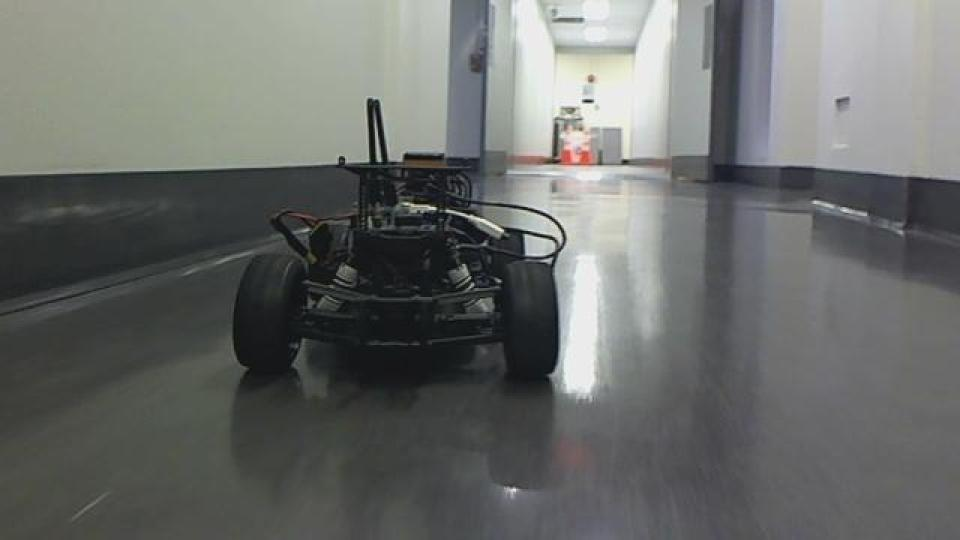car: (228, 94, 568, 382)
